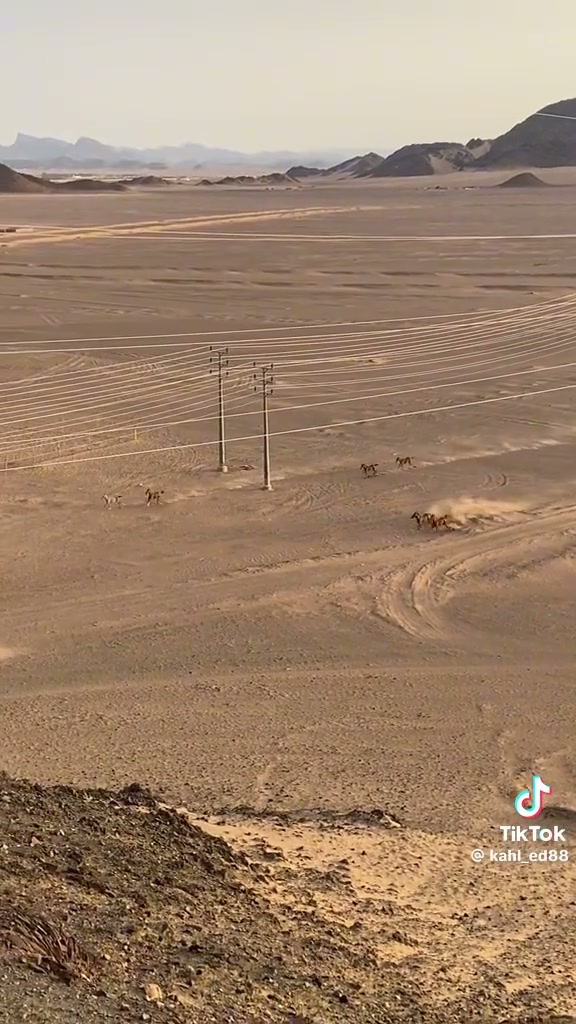animal: (145, 488, 163, 505), (103, 494, 121, 508), (360, 463, 377, 476), (395, 456, 412, 467), (411, 511, 422, 528)
vehicle_track: (371, 506, 575, 649)
